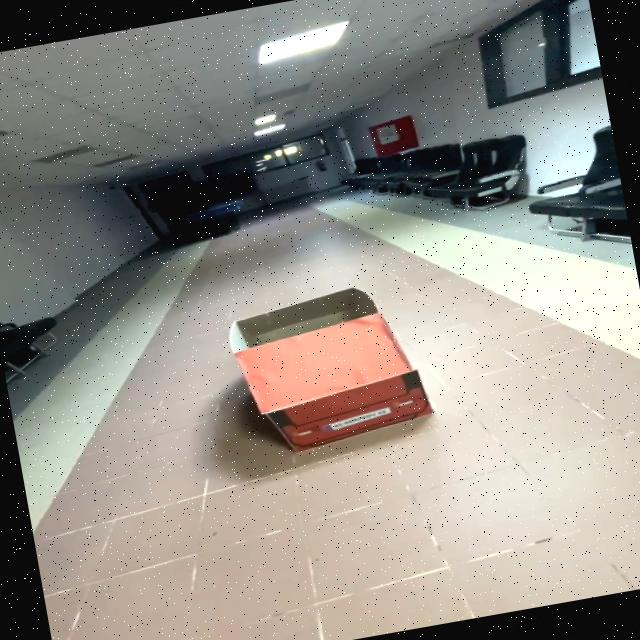red_car: (199, 255, 479, 474)
